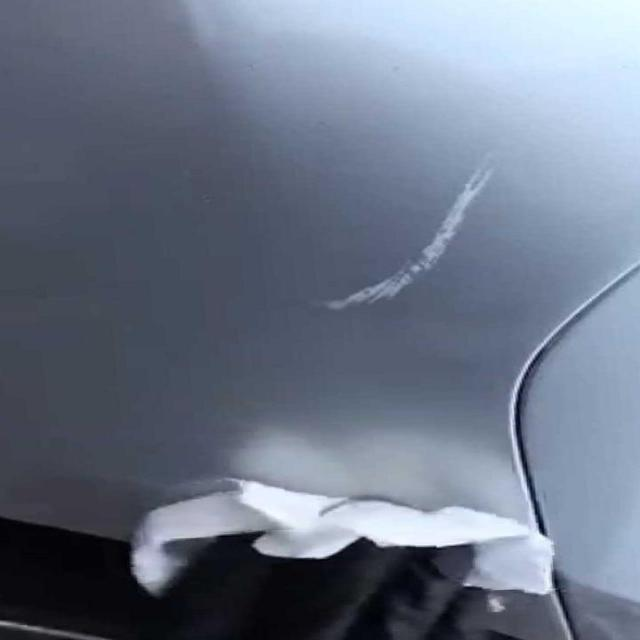scratch: (290, 154, 514, 328)
